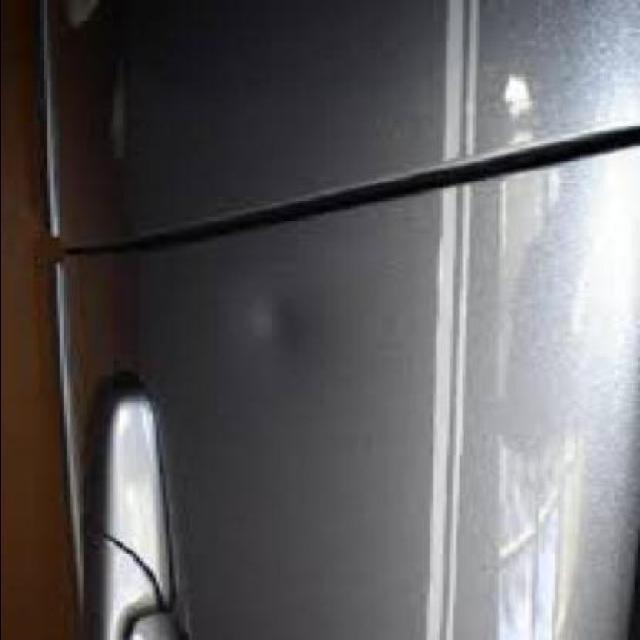doorouter-dent: (10, 122, 634, 572)
